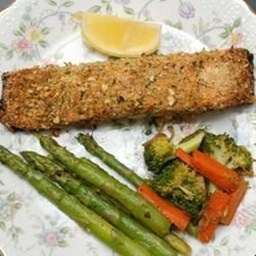background: (0, 5, 102, 102)
